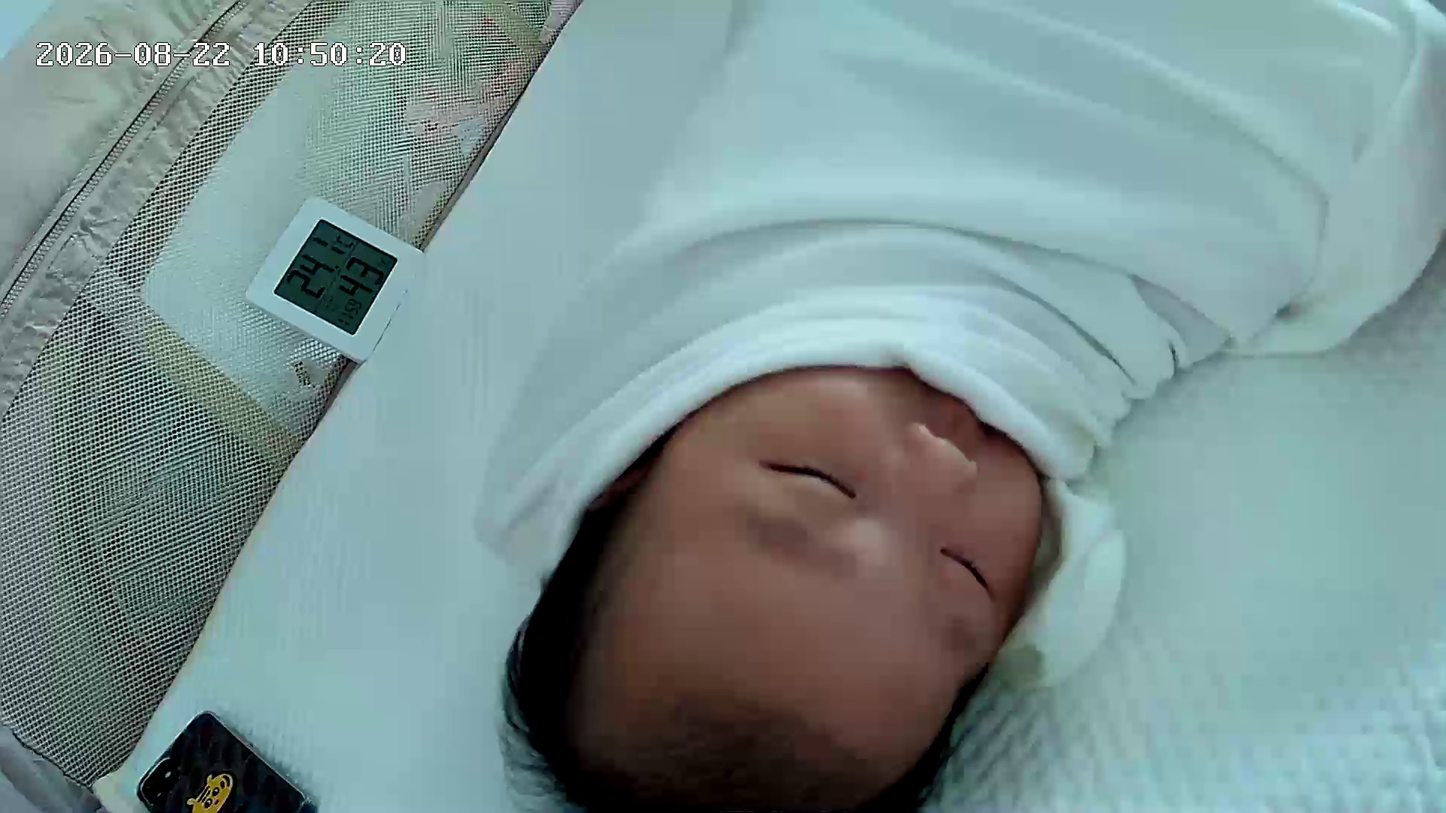baby: (472, 0, 1291, 813)
baby_face: (490, 365, 1085, 813)
